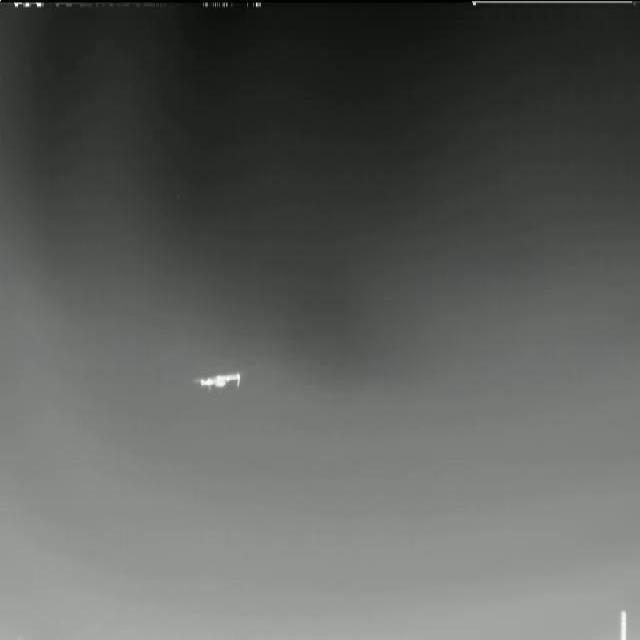DRONE: (188, 363, 248, 399)
